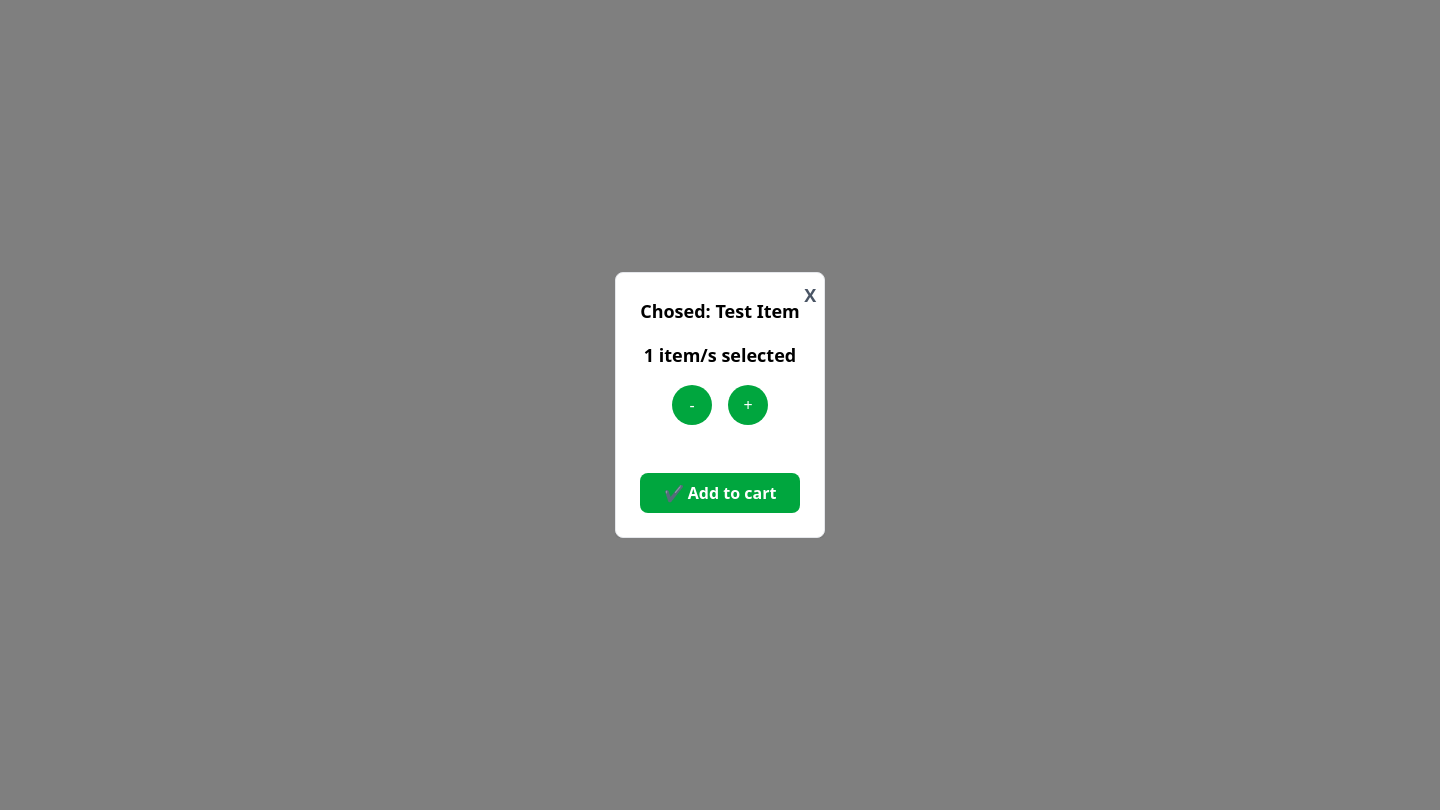
Clicking `+` increaces amount by 1
Step 1. Click the button "+" → (748, 405), box [728,385,768,425]
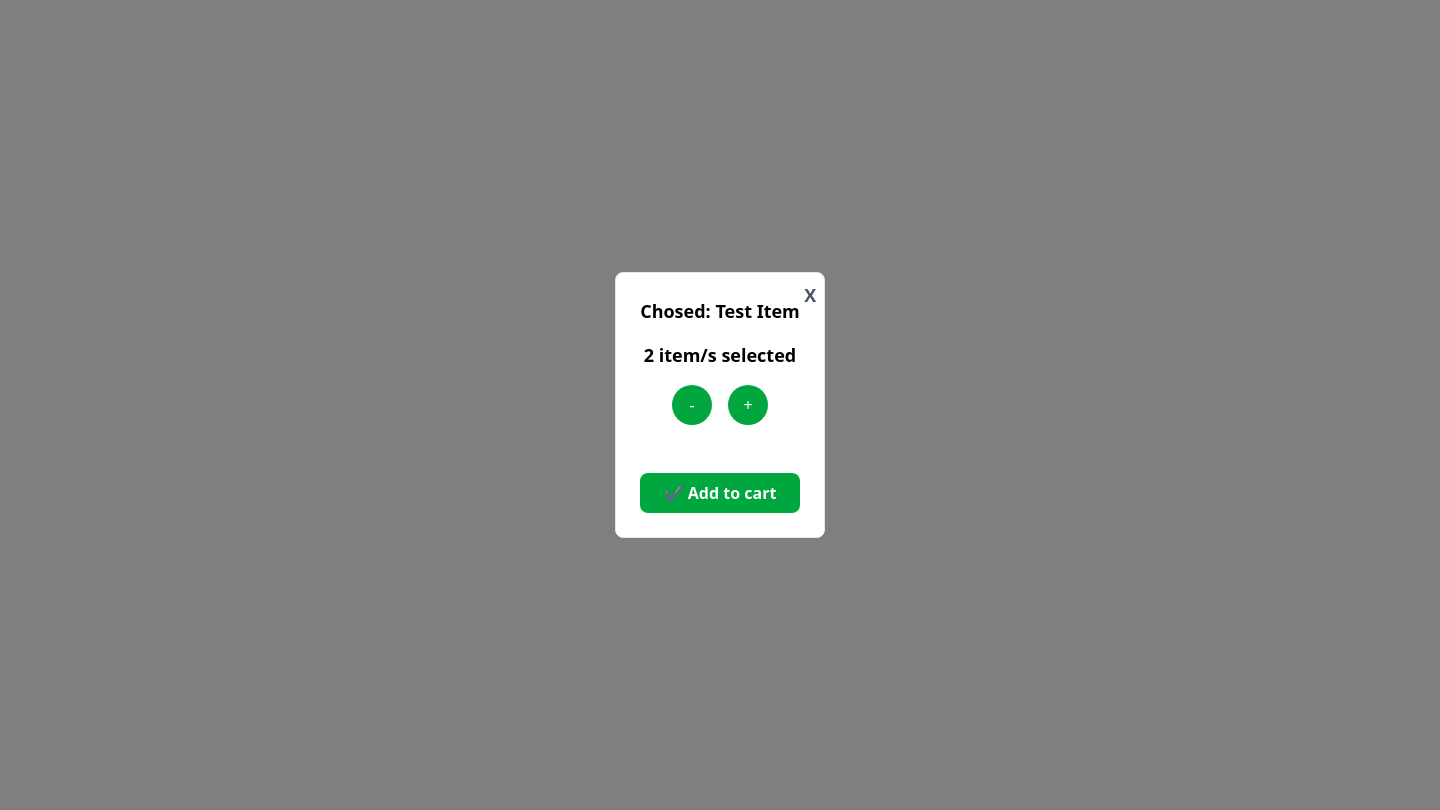
Expected: the text "1 item/s selected" reads "2 item/s selected", [640,341,800,369]
